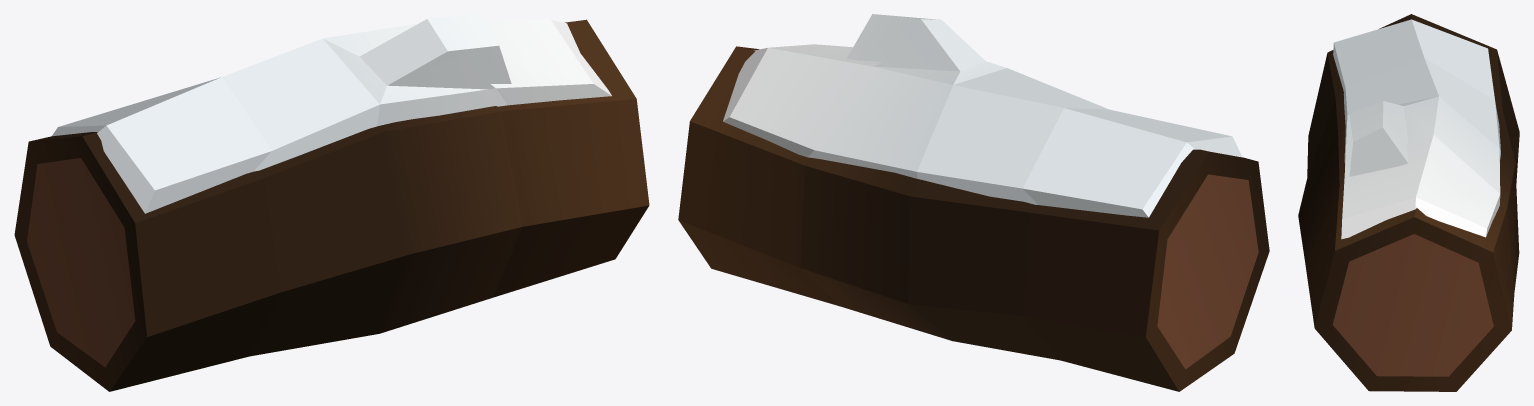
The picture shows the model from 3 angles, left to right: view 1: azimuth 30°, elevation 25°; view 2: azimuth 150°, elevation 25°; view 3: azimuth 270°, elevation 25°; orthographic projection. The views are drawn at different scales.
Parts seen in each view (by area): view 1: base.002, neige.002; view 2: base.002, neige.002; view 3: base.002, neige.002.
Boxes of the visible parts, x1=… form: base.002: x1=14, y1=19, x2=649, y2=391; neige.002: x1=52, y1=14, x2=611, y2=213; base.002: x1=678, y1=46, x2=1269, y2=391; neige.002: x1=723, y1=14, x2=1242, y2=217; base.002: x1=1298, y1=14, x2=1519, y2=391; neige.002: x1=1333, y1=19, x2=1500, y2=239.
Bounding box in the file's own units: 2.19 × 1.24 × 1.04.
Materials: 1 (1 with a texture image).
